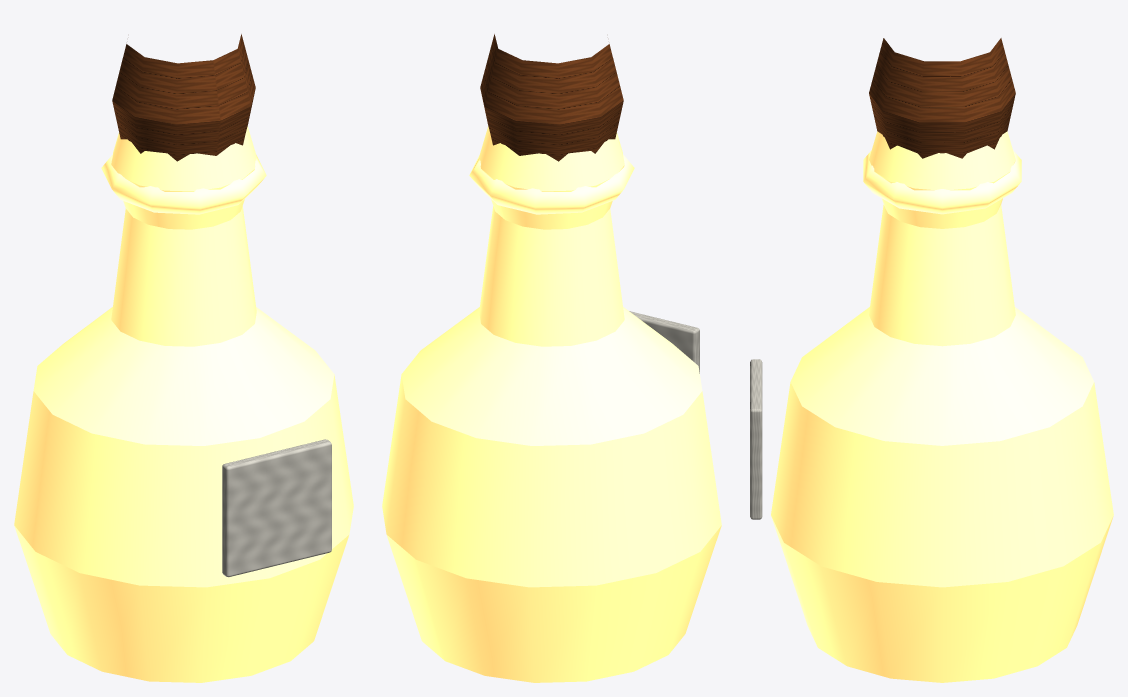
The model's file is witch-cottage-and-apothecary-potion-bottle-round-amber-d2ababca__32474.glb.
3 views of the same model, side by side, from view 1: azimuth 30°, elevation 25°; view 2: azimuth 150°, elevation 25°; view 3: azimuth 270°, elevation 25° (orthographic).
Parts seen in each view (by area): view 1: potion-bottle-round-amber; view 2: potion-bottle-round-amber; view 3: potion-bottle-round-amber.
Part boxes in pixels (bbox=[...]): potion-bottle-round-amber: bbox=[14, 34, 353, 682]; potion-bottle-round-amber: bbox=[382, 34, 721, 682]; potion-bottle-round-amber: bbox=[750, 38, 1113, 682].
Bounding box in the file's own units: 0.14 × 0.275 × 0.1485.
3 materials, 2 textured.
